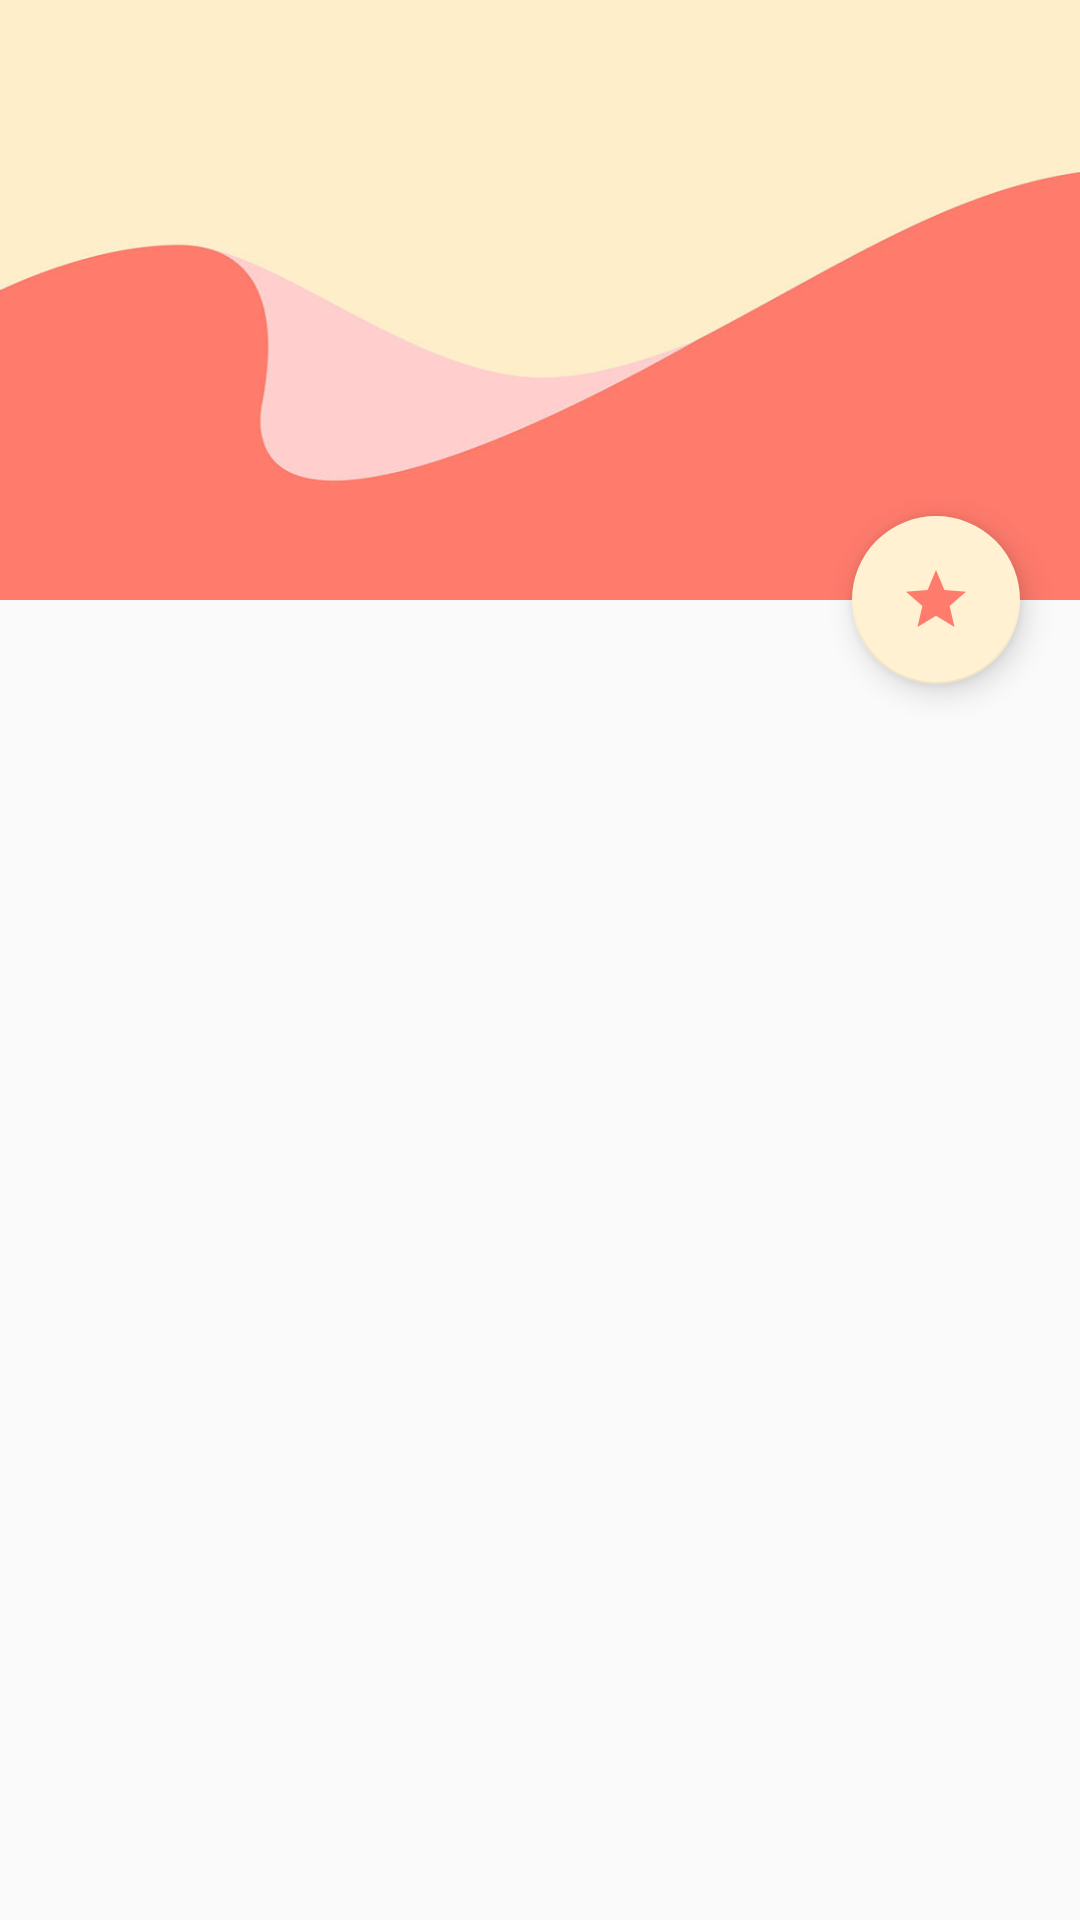

Named icons in this screenshot (1080 × 1920) and their centers, point (x, y):
fab: point (936, 600)
